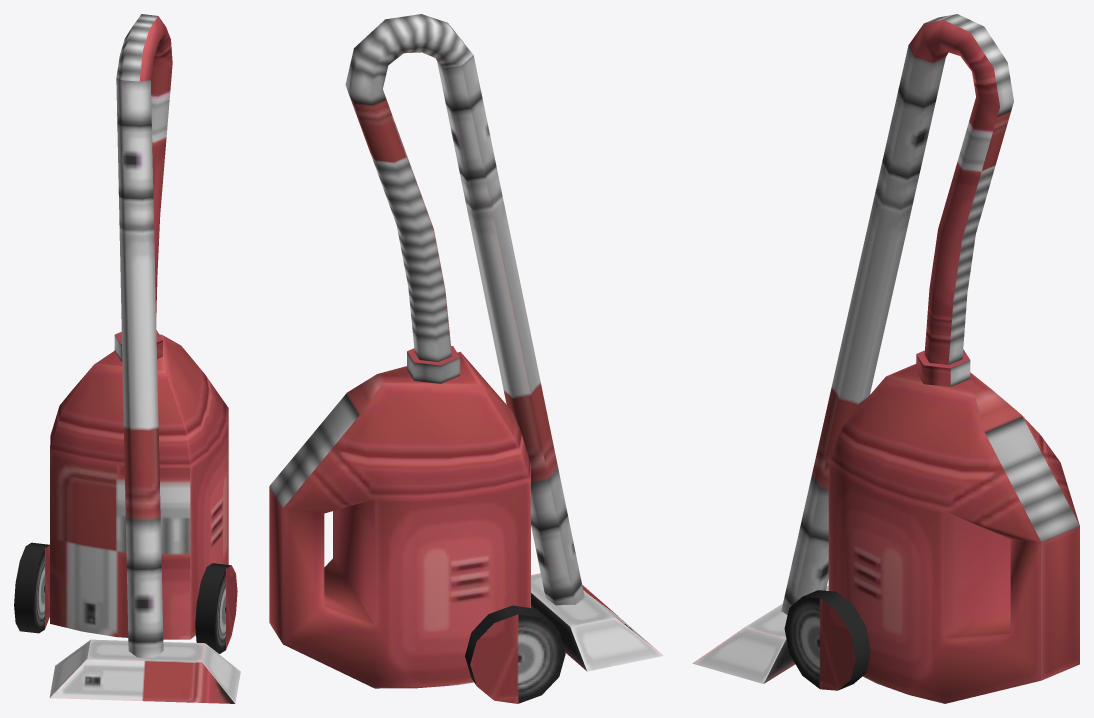
File: int_oth_cleaner.dae
3 views of the same model, side by side, from view 1: azimuth 30°, elevation 25°; view 2: azimuth 150°, elevation 25°; view 3: azimuth 270°, elevation 25° (orthographic). The views are drawn at different scales.
Parts seen in each view (by area): view 1: int_oth_cleaner; view 2: int_oth_cleaner; view 3: int_oth_cleaner.
Boxes of the visible parts, <box> form: int_oth_cleaner: <box>14,14,240,703</box>; int_oth_cleaner: <box>269,14,663,703</box>; int_oth_cleaner: <box>692,14,1079,703</box>.
Bounding box in the file's own units: 20.54 × 45.27 × 24.18.
1 material, 1 textured.
